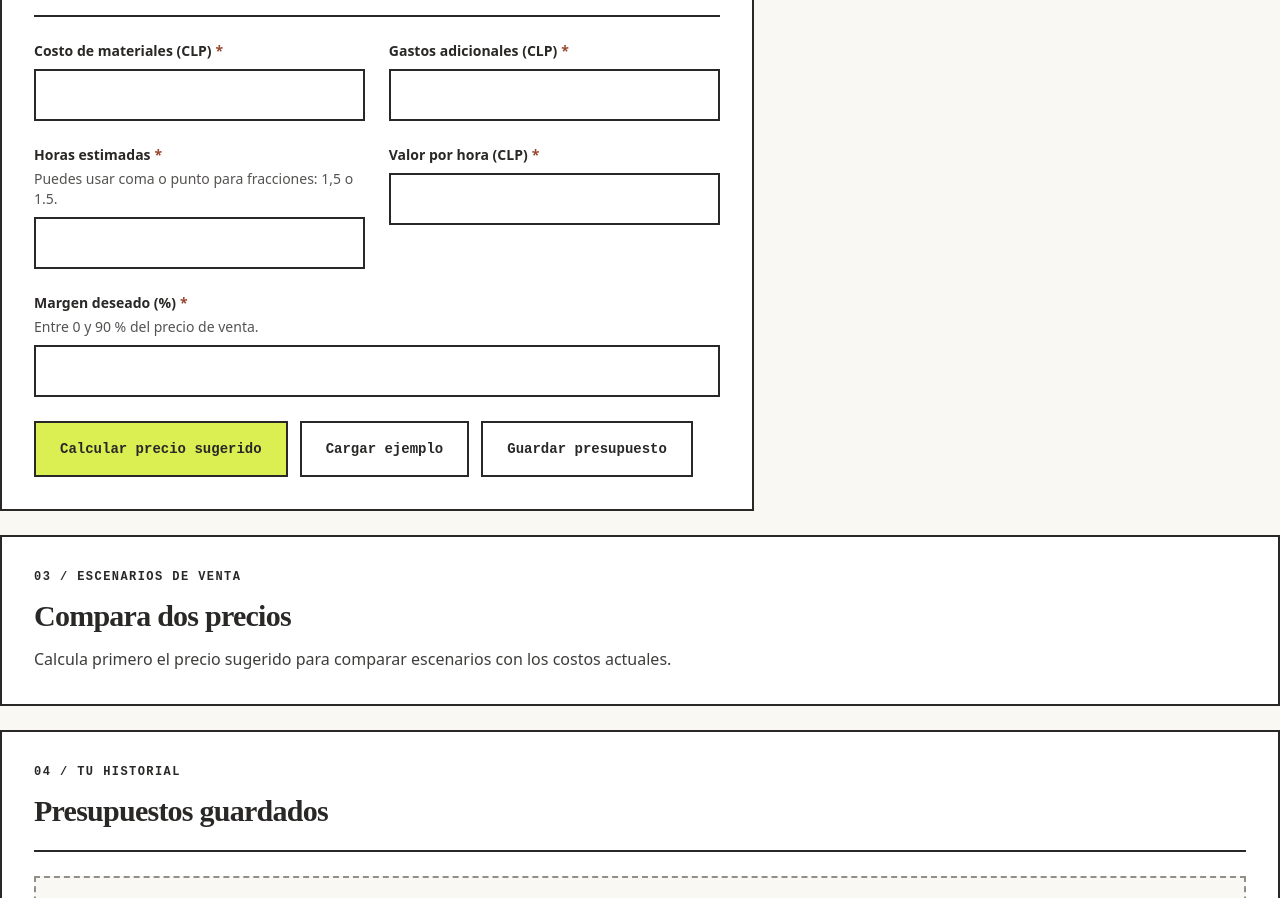
Scenario: Calculadora › calcula horas fraccionarias con 1,5
The image size is (1280, 898).
(page scrolled)
Click the button "Cargar ejemplo" at (384, 448), box [300,420,469,476]
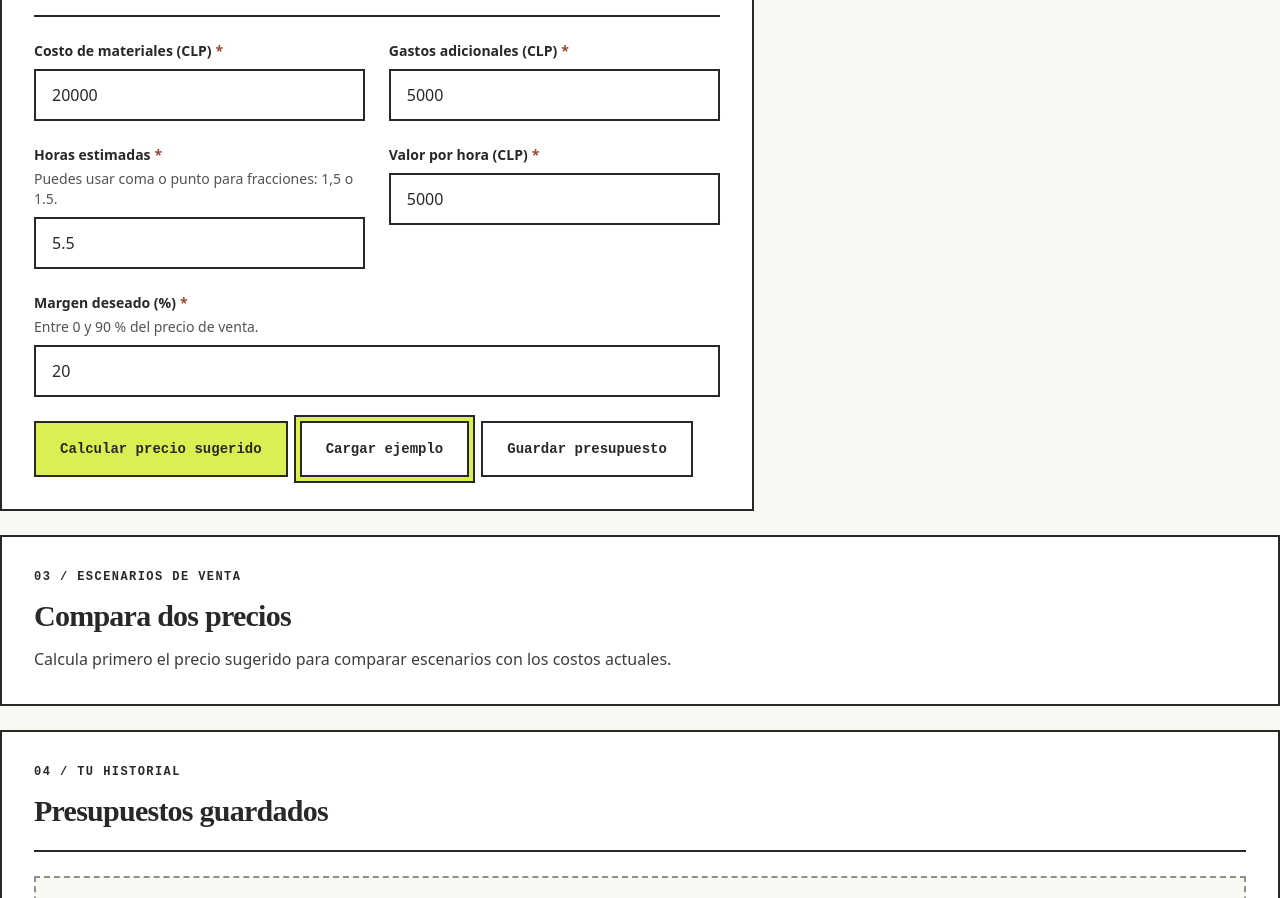
Replace the text in the field labelled "Horas estimadas" with "1,5" at (199, 242), box [34,216,365,268]
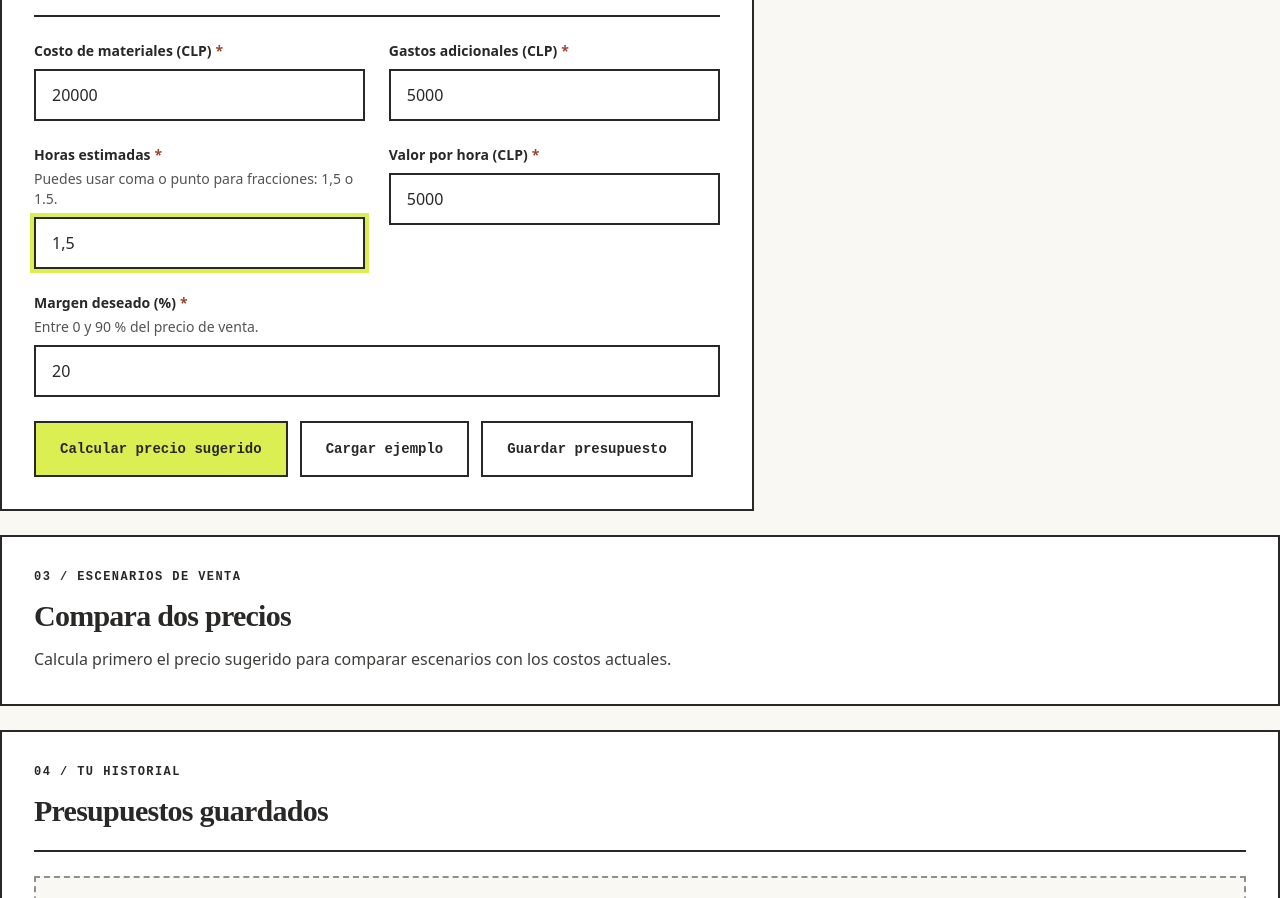
Click the button "Calcular precio sugerido" at (161, 448), box [34,420,288,476]
(page scrolled)
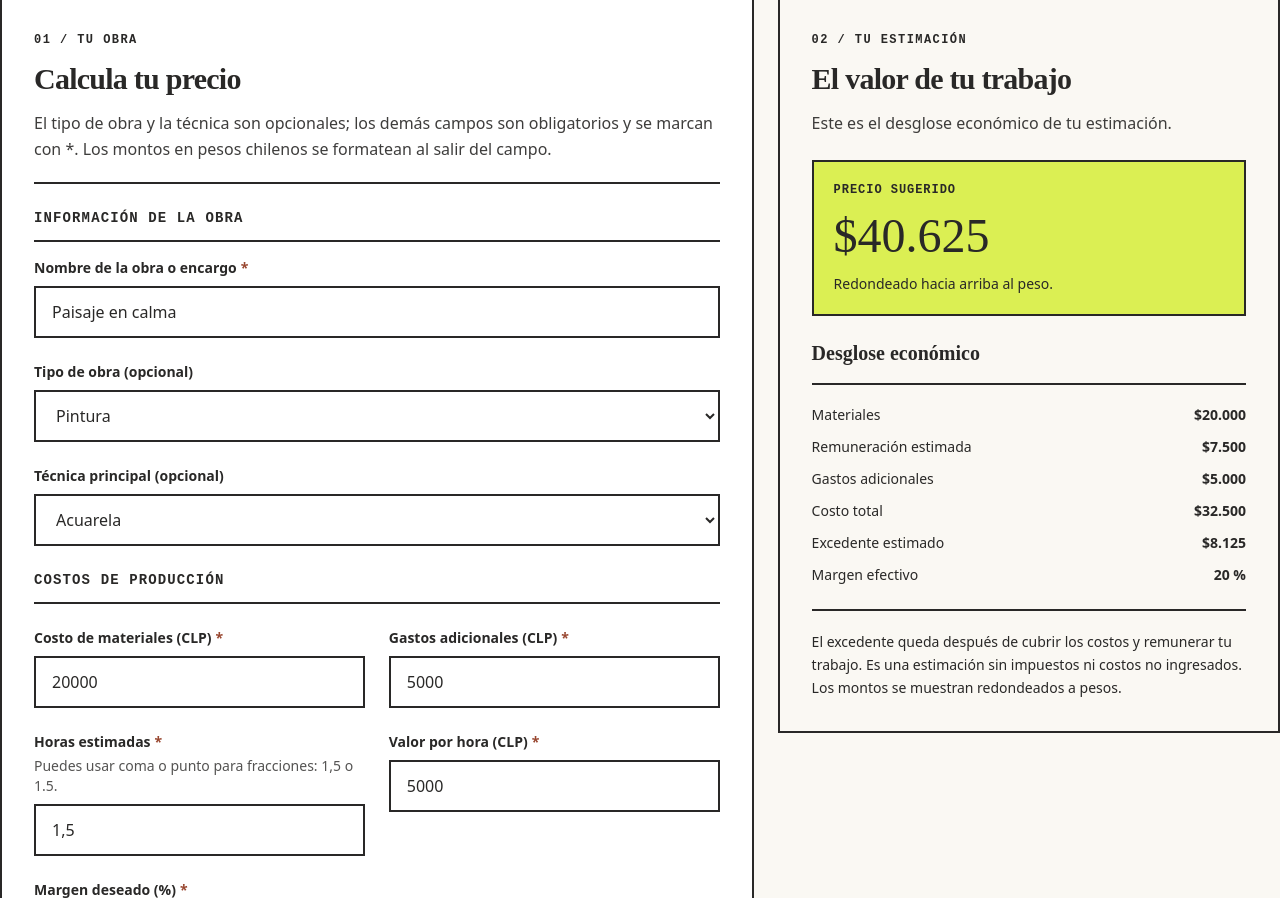
Result: the text "$7.500" is shown at [1202,437,1246,457]
Result: the text "$40.625" is shown at [834,208,990,262]
